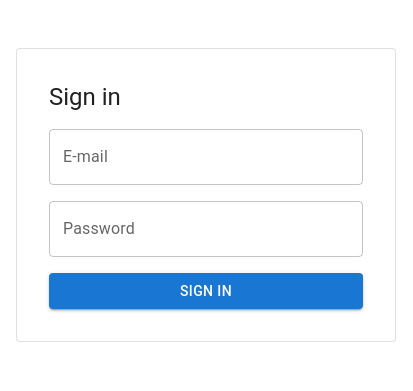
SignInPage › shows the message the API returns for wrong credentials
This screenshot has width=413, height=391.
Type "admin@example.com" into the field labelled "E-mail" at x=206, y=157, box [49,129,363,185]
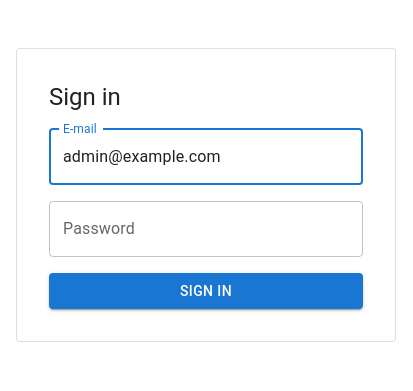
Type "wrong" into the password field labelled "Password" at x=206, y=229, box [49,201,363,257]
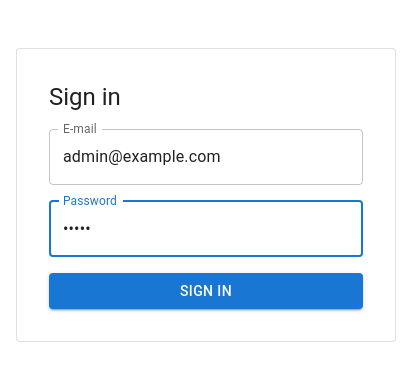
Click the button "Sign in" at x=206, y=291, box [49,273,363,309]
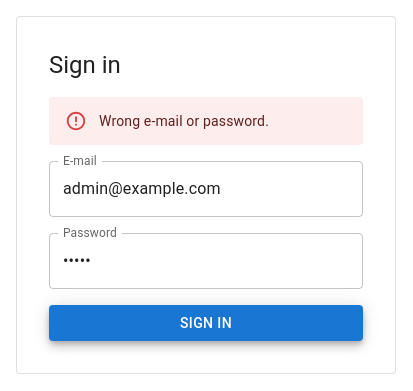
Check: the text "Wrong e-mail or password." is shown, box [99,113,269,129]
